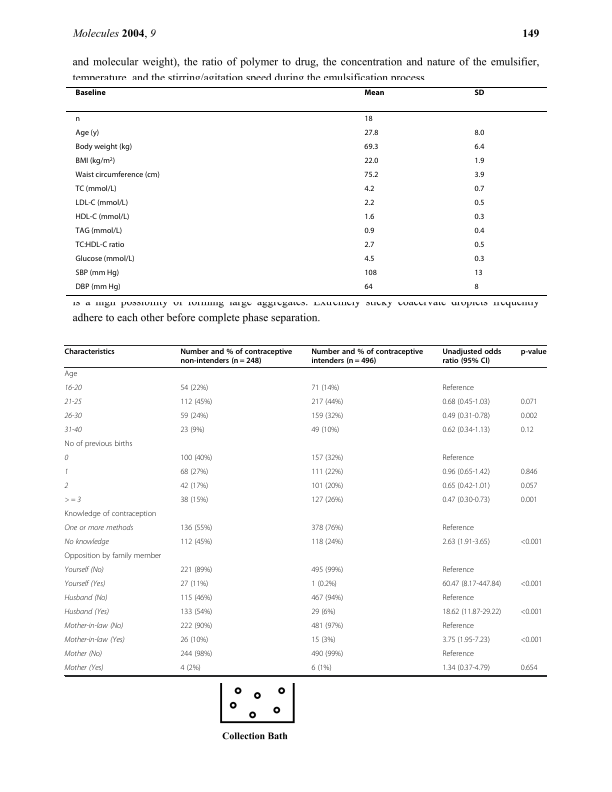borderless: (63, 344, 546, 675), (65, 85, 547, 295)
cell: (179, 348, 293, 366), (310, 348, 424, 366), (441, 348, 502, 366), (64, 552, 162, 562), (64, 510, 157, 520), (75, 170, 161, 180), (64, 440, 133, 450), (64, 524, 134, 533), (75, 254, 136, 264), (441, 580, 502, 590), (441, 608, 502, 618), (75, 142, 133, 152), (64, 636, 126, 645), (75, 212, 130, 222), (75, 198, 129, 208), (64, 622, 124, 631), (75, 240, 125, 250), (441, 398, 491, 408), (441, 412, 491, 422), (441, 426, 491, 436), (441, 468, 491, 478), (441, 482, 491, 492), (441, 496, 491, 506), (441, 538, 491, 548), (441, 636, 491, 646), (441, 664, 491, 674), (75, 226, 123, 236), (64, 348, 116, 357), (75, 282, 121, 292), (64, 538, 110, 548), (75, 268, 120, 278), (75, 184, 117, 194), (64, 608, 110, 617), (75, 156, 116, 166), (64, 594, 108, 603), (64, 580, 106, 589), (64, 566, 105, 575), (64, 664, 104, 673), (64, 650, 103, 659), (441, 384, 475, 394), (179, 398, 213, 408), (310, 398, 344, 408), (310, 412, 344, 422), (179, 454, 213, 464), (310, 454, 344, 464), (441, 454, 475, 464), (310, 468, 344, 478), (310, 482, 344, 492), (310, 496, 344, 506), (179, 524, 213, 534), (310, 524, 344, 534), (441, 524, 475, 534), (179, 538, 213, 548), (310, 538, 344, 548), (179, 566, 213, 576), (310, 566, 344, 576), (441, 566, 475, 576), (179, 594, 213, 604), (310, 594, 344, 604), (441, 594, 475, 604), (179, 608, 213, 618), (179, 622, 213, 632), (310, 622, 344, 632), (441, 622, 475, 632), (179, 650, 213, 660), (310, 650, 344, 660), (441, 650, 475, 660), (179, 384, 209, 394), (310, 384, 340, 394), (179, 412, 209, 422), (310, 426, 340, 436), (179, 468, 209, 478), (179, 482, 209, 492), (179, 496, 209, 506), (179, 580, 209, 590), (179, 636, 209, 646), (310, 580, 338, 590), (179, 426, 205, 436), (310, 608, 336, 618), (310, 636, 336, 646), (75, 88, 107, 96), (75, 128, 100, 138), (520, 348, 547, 357), (520, 538, 543, 548), (520, 580, 543, 590), (520, 608, 543, 618), (520, 636, 543, 646), (179, 664, 201, 674), (310, 664, 332, 674), (520, 398, 538, 408), (520, 412, 538, 422), (520, 468, 538, 478), (520, 482, 538, 492), (520, 496, 538, 506), (520, 664, 538, 674), (363, 88, 385, 96), (64, 384, 82, 393), (64, 398, 82, 407), (64, 412, 82, 421), (64, 426, 82, 435), (64, 496, 82, 505), (363, 128, 379, 138), (363, 142, 379, 152), (363, 156, 379, 166), (363, 170, 379, 180), (363, 268, 378, 278), (520, 426, 535, 436), (64, 370, 78, 380), (473, 128, 485, 138), (473, 142, 485, 152), (473, 156, 485, 166), (473, 170, 485, 180), (363, 184, 375, 194), (473, 184, 485, 194), (363, 198, 375, 208), (473, 198, 485, 208), (363, 212, 375, 222), (473, 212, 485, 222), (363, 226, 375, 236), (473, 226, 485, 236), (363, 240, 375, 250), (473, 240, 485, 250), (363, 254, 375, 264), (363, 114, 374, 124), (474, 254, 485, 264), (473, 268, 484, 278), (363, 282, 374, 292), (473, 88, 485, 96), (473, 282, 480, 292), (75, 114, 81, 124), (64, 454, 69, 463), (64, 468, 69, 477), (64, 482, 69, 491)
